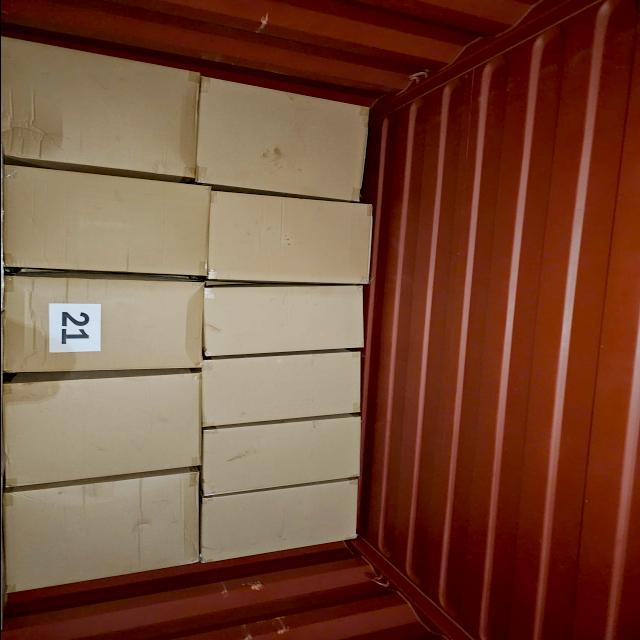Carton: (0, 48, 201, 172), (0, 472, 202, 588), (1, 376, 203, 484), (0, 177, 214, 276), (2, 270, 202, 370), (190, 85, 366, 195), (200, 202, 366, 288), (198, 482, 356, 560), (194, 418, 356, 488), (200, 352, 360, 422), (202, 285, 364, 353)
